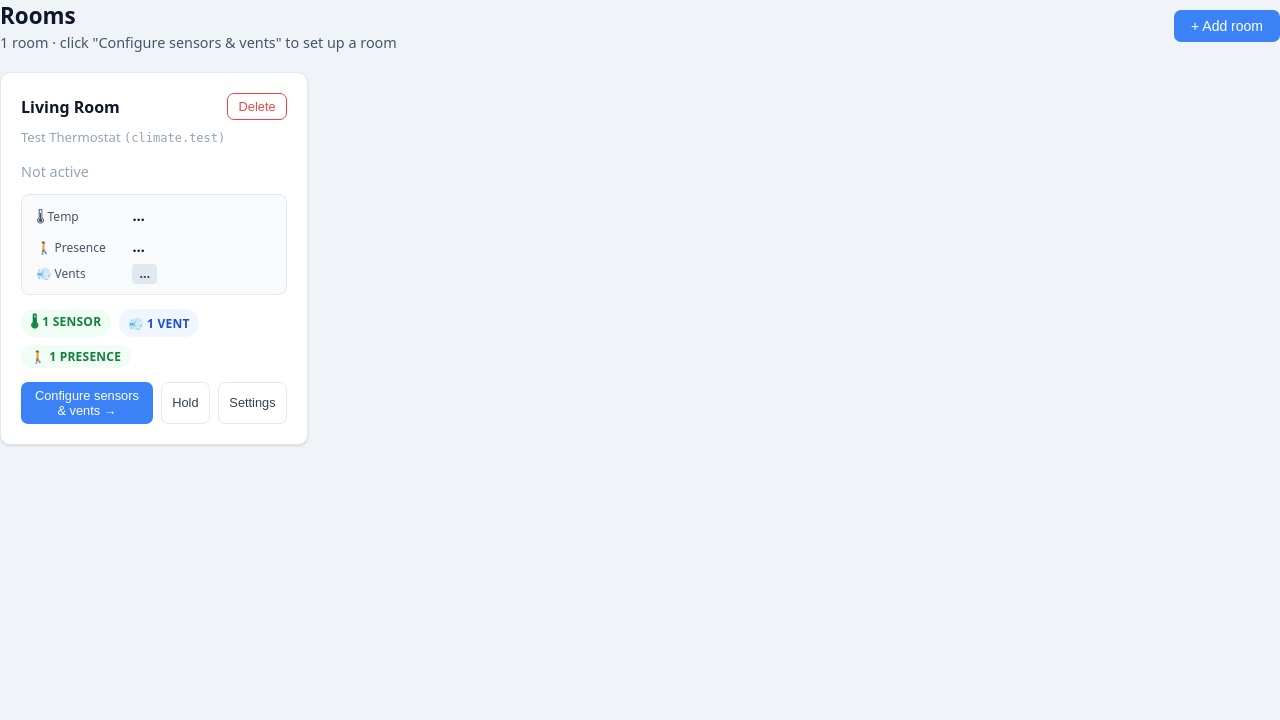
Scenario: Rooms Page › rejects a room name that duplicates an existing one
Click the button "+ Add room" at {"x": 1227, "y": 26}, box [1174,10,1279,42]
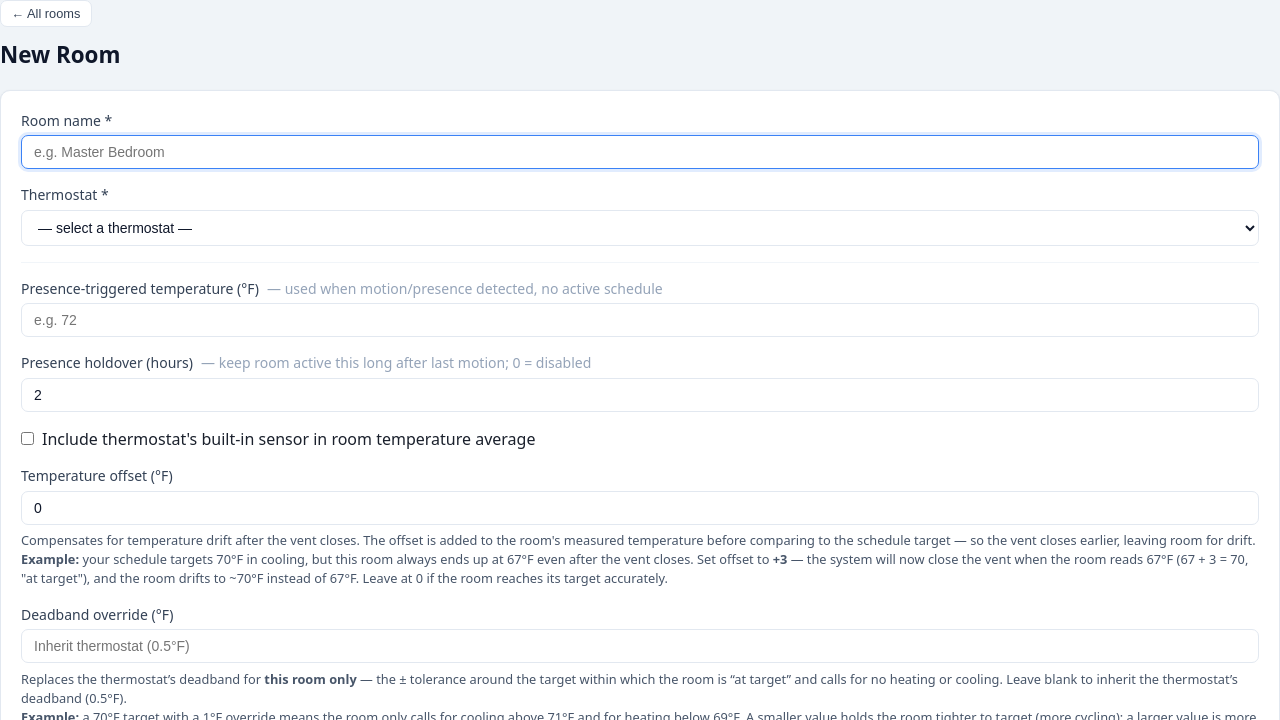
Result: the text "New Room" is shown at [0,39,120,70]
Select "Test Thermostat (climate.test)" in the dropdown labelled "Thermostat *" at {"x": 640, "y": 228}, box [21,210,1259,246]
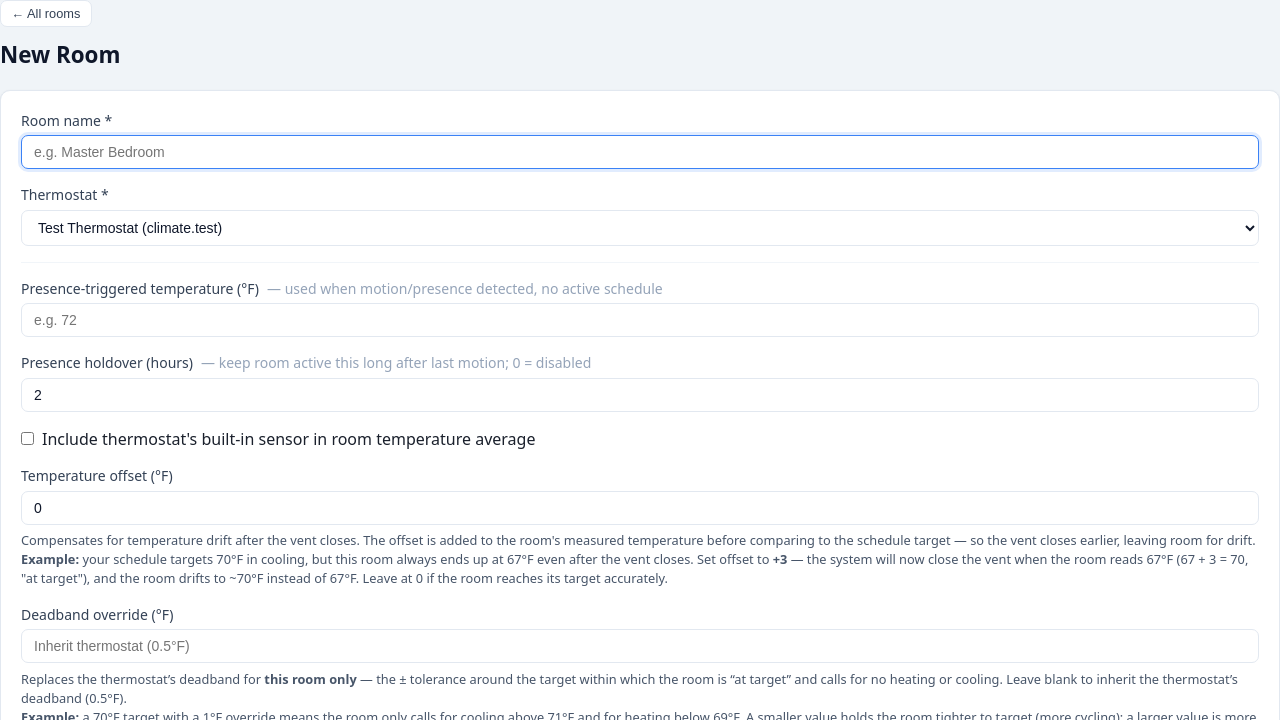
Type "Living Room" into the field labelled "Room name *" at {"x": 640, "y": 152}, box [21,135,1259,169]
(page scrolled)
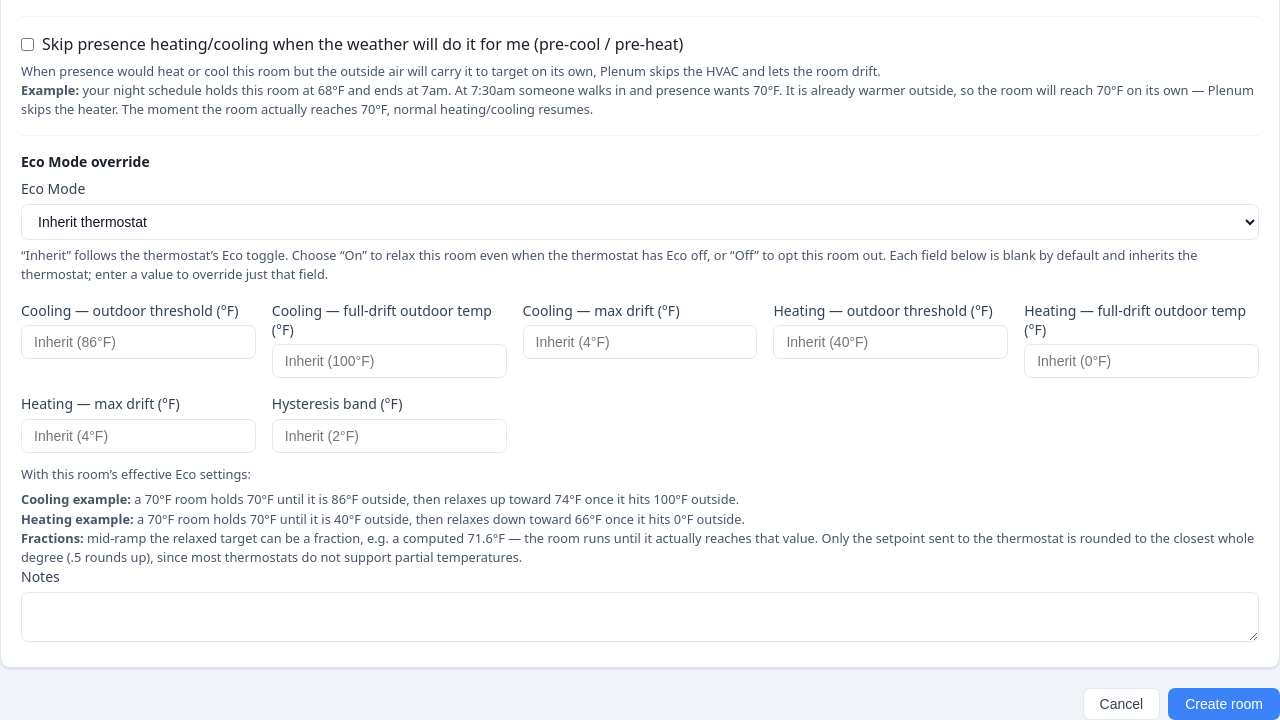
Click the button "Create room" at {"x": 1224, "y": 704}, box [1168,688,1279,719]
(page scrolled)
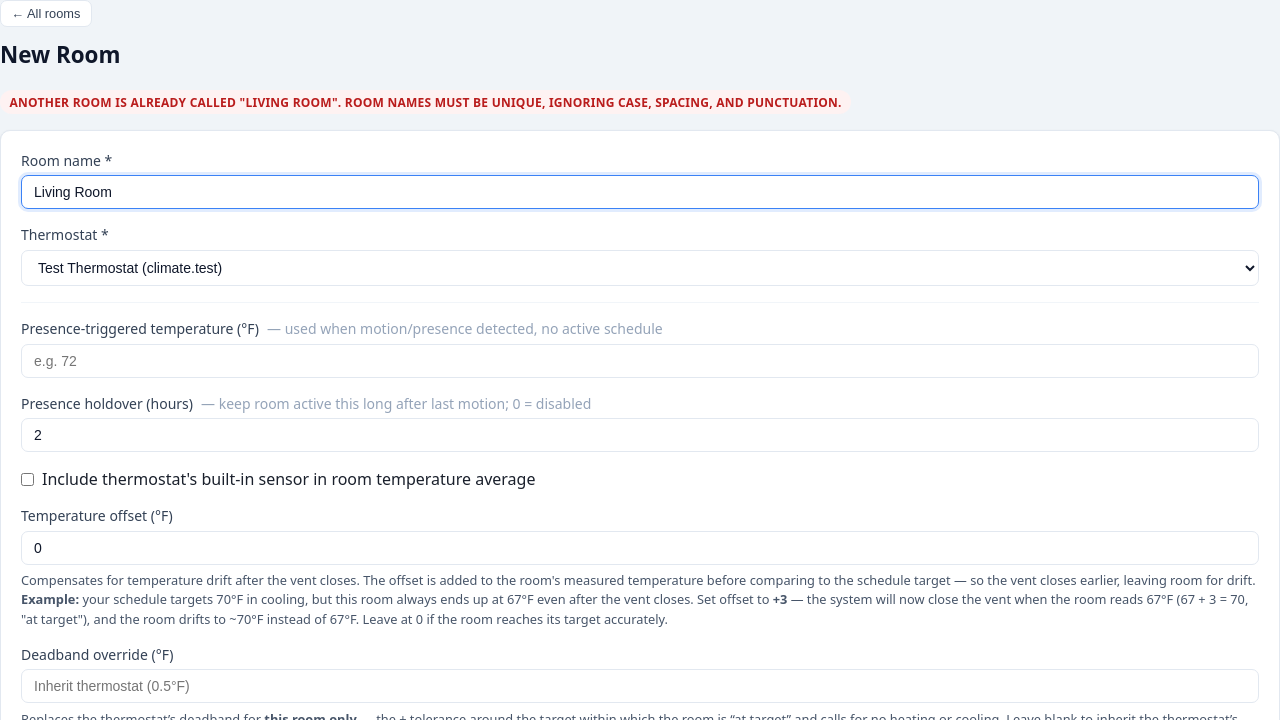
Result: the text "Another room is already called" is shown at [10,94,842,111]
